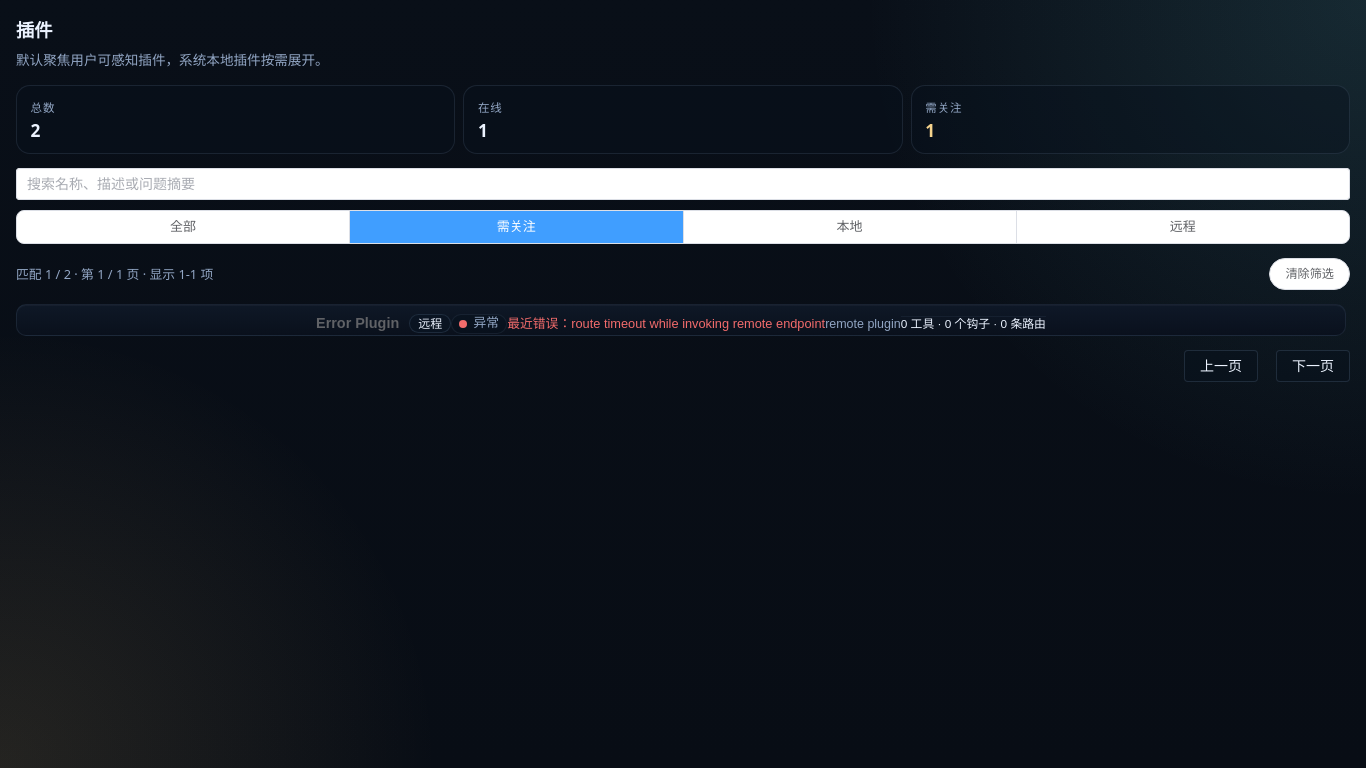
Test case: PluginSidebar › filters plugins by quick attention filter and keyword search
The image size is (1366, 768).
Type "alpha" into the field with test id "plugin-sidebar-search" at point(683, 184), box [27, 169, 1339, 199]
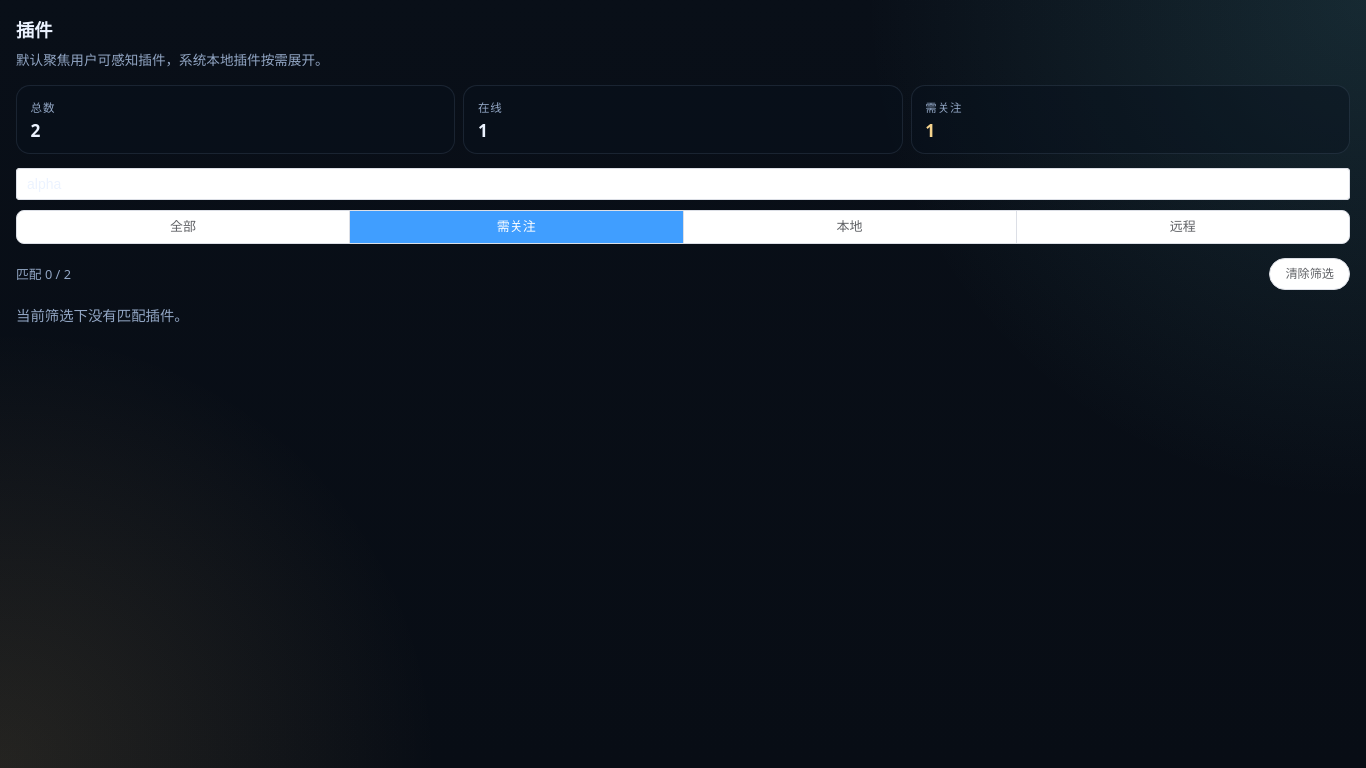
Expected: the text "当前筛选下没有匹配插件。" is shown, [16, 306, 189, 325]
